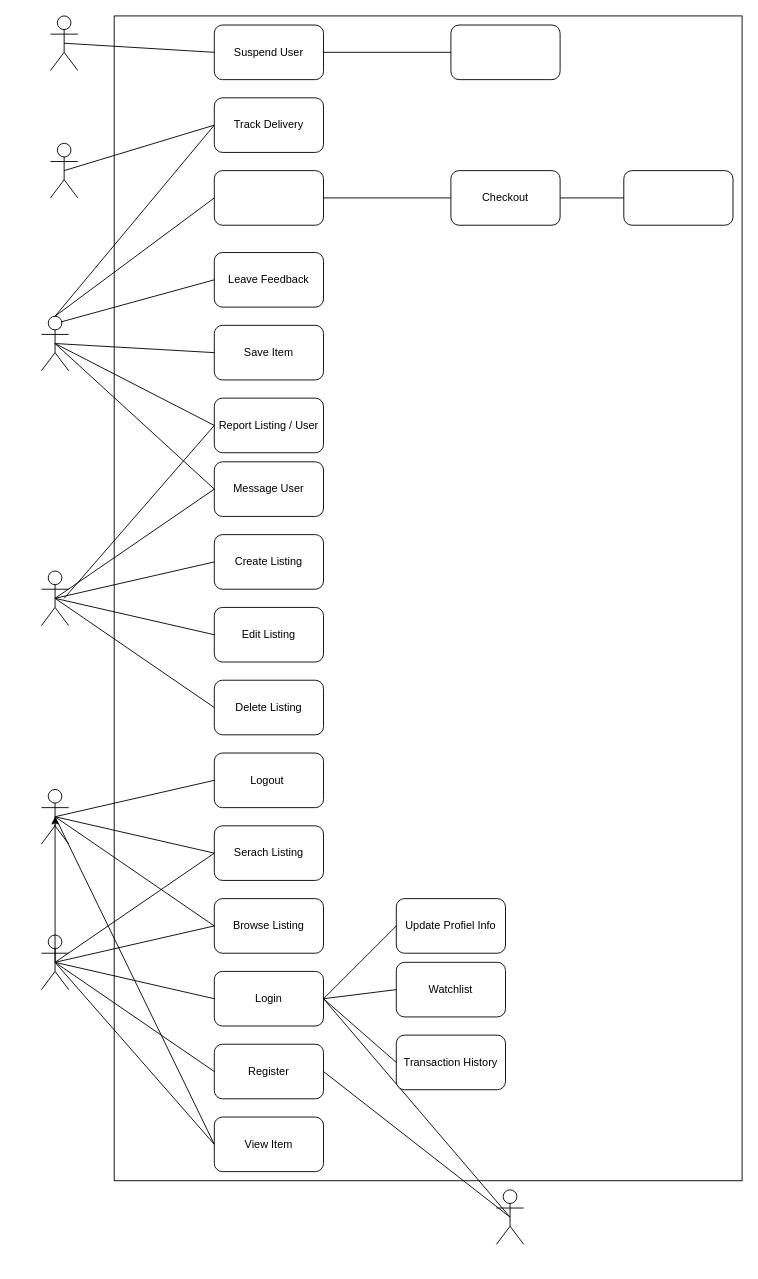
Image size: 758x1279. Some labels were removed from this diagram. The shapes that lost their labels are listed below. From the top down, each one's centre as x and y in pixels, then its label:
At point (64, 43): "Admin".
At point (505, 52): "Review Reports".
At point (64, 170): "Shipping Service".
At point (268, 197): "Buy Item".
At point (678, 197): "Make Payment".
At point (54, 343): "Buyer".
At point (54, 598): "Seller".
At point (54, 816): "Registered User".
At point (54, 962): "Visitor".
At point (509, 1216): "Email Authentication".
